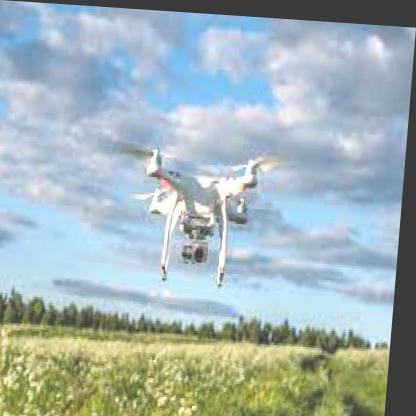UAS: (143, 145, 260, 286)
